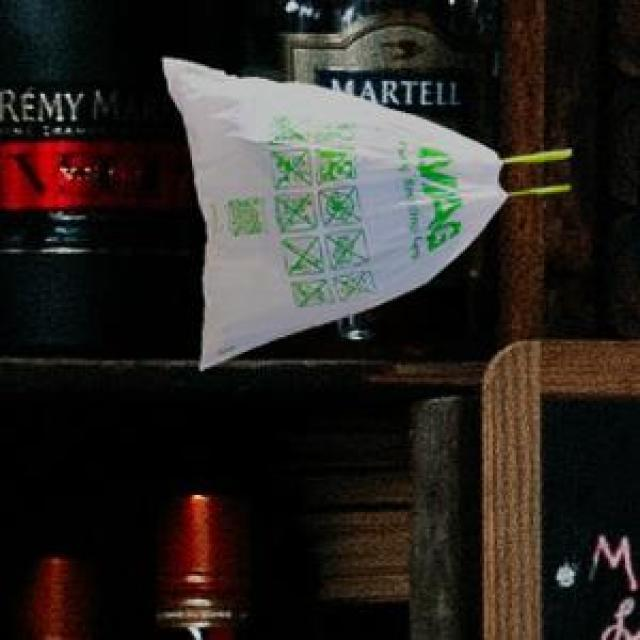waste: (166, 58, 504, 368)
